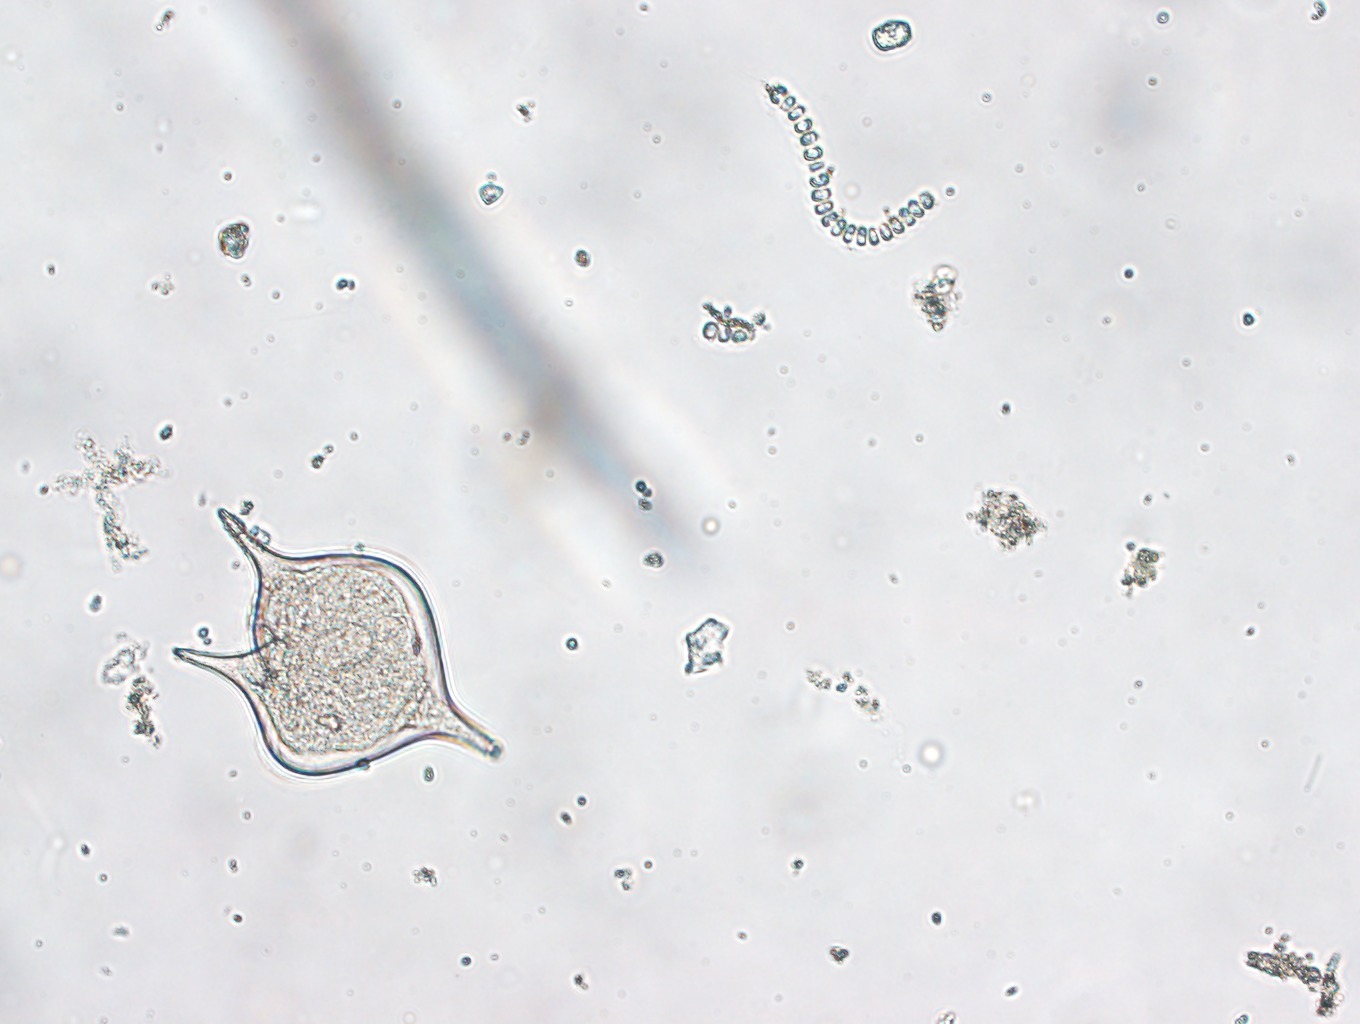ceratium furca: (171, 506, 514, 781)
skeletonema: (761, 68, 955, 261)
